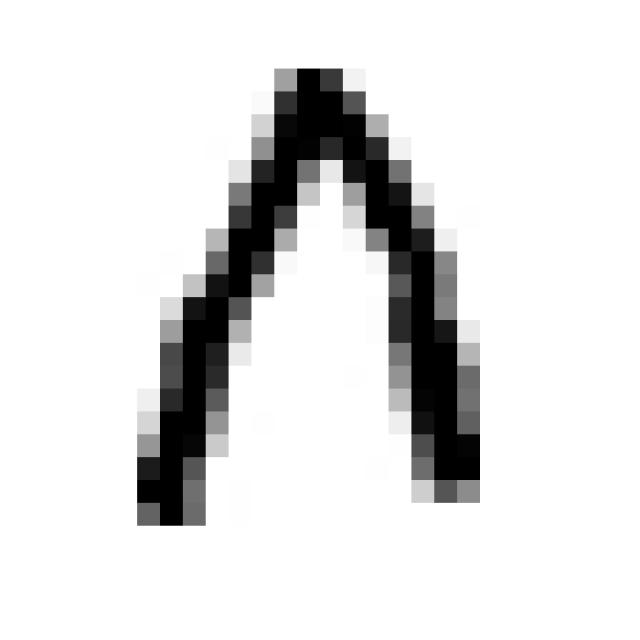8 -eight-: (114, 41, 503, 541)
